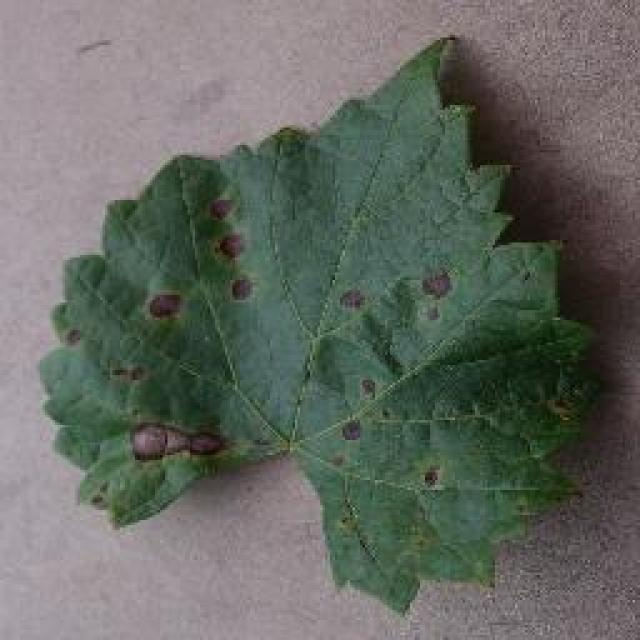Grape___Black_rot: (28, 32, 610, 623)
